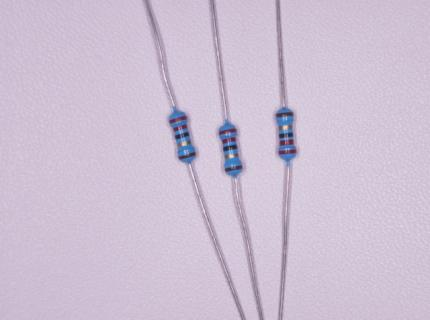Black band: (175, 131, 189, 140), (224, 144, 237, 151), (279, 133, 293, 139)
Brown band: (178, 151, 196, 160), (225, 165, 242, 172), (276, 112, 293, 117)
Gold band: (177, 140, 191, 148), (224, 154, 239, 160), (279, 125, 293, 130)
Red band: (169, 116, 187, 124), (219, 128, 237, 135), (173, 124, 188, 132), (279, 149, 296, 155), (222, 137, 236, 144), (280, 139, 294, 146)
